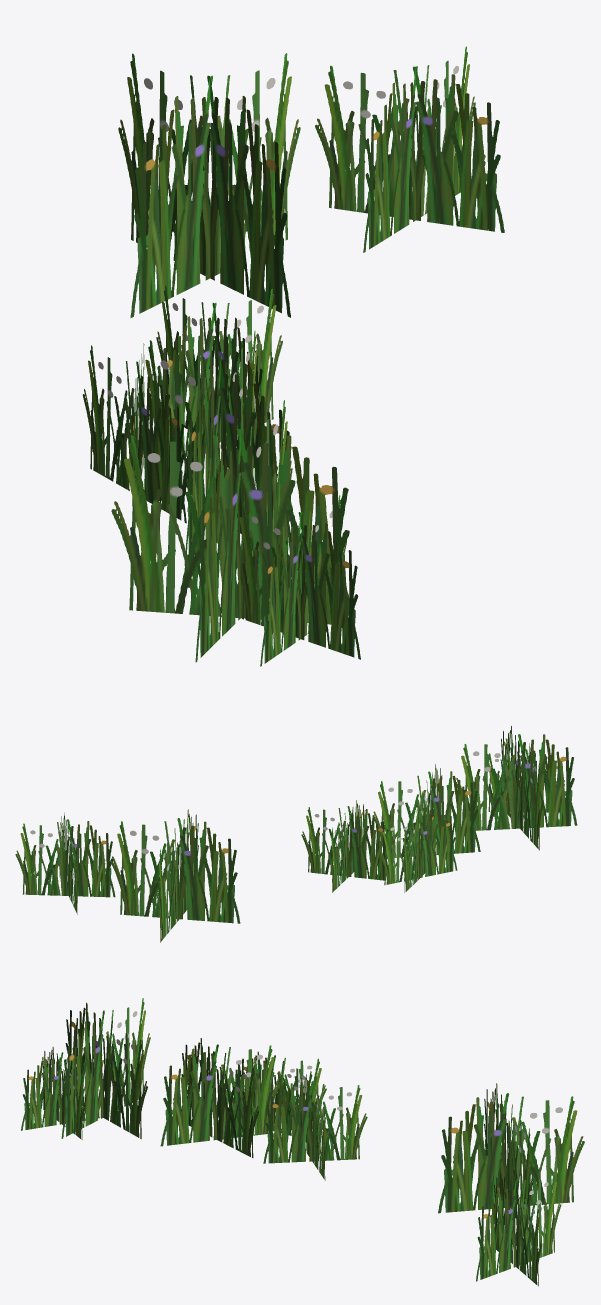
File: grass_patch_b.glb
The picture shows the model from 3 angles, top to bottom: view 1: azimuth 30°, elevation 25°; view 2: azimuth 150°, elevation 25°; view 3: azimuth 270°, elevation 25°; orthographic projection. The views are drawn at different scales.
Parts seen in each view (by area): view 1: grass; view 2: grass; view 3: grass.
Part boxes in pixels (x1,y1,x2,y2): grass: (82,46,504,666); grass: (15,726,577,942); grass: (21,998,584,1286).
Size of the model in its own units: 2.68 by 0.777 by 3.27.
Materials: 1 (1 with a texture image).
